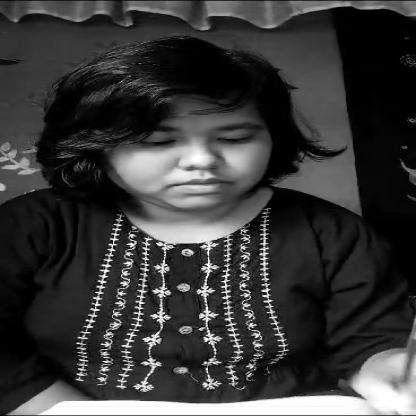Normal: (108, 88, 288, 210)
